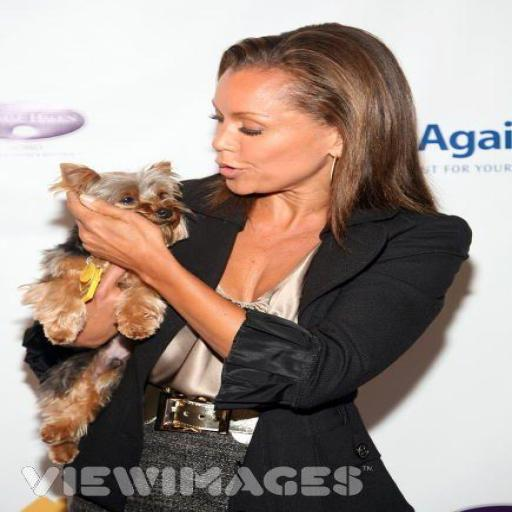dog_face: (44, 152, 193, 242)
